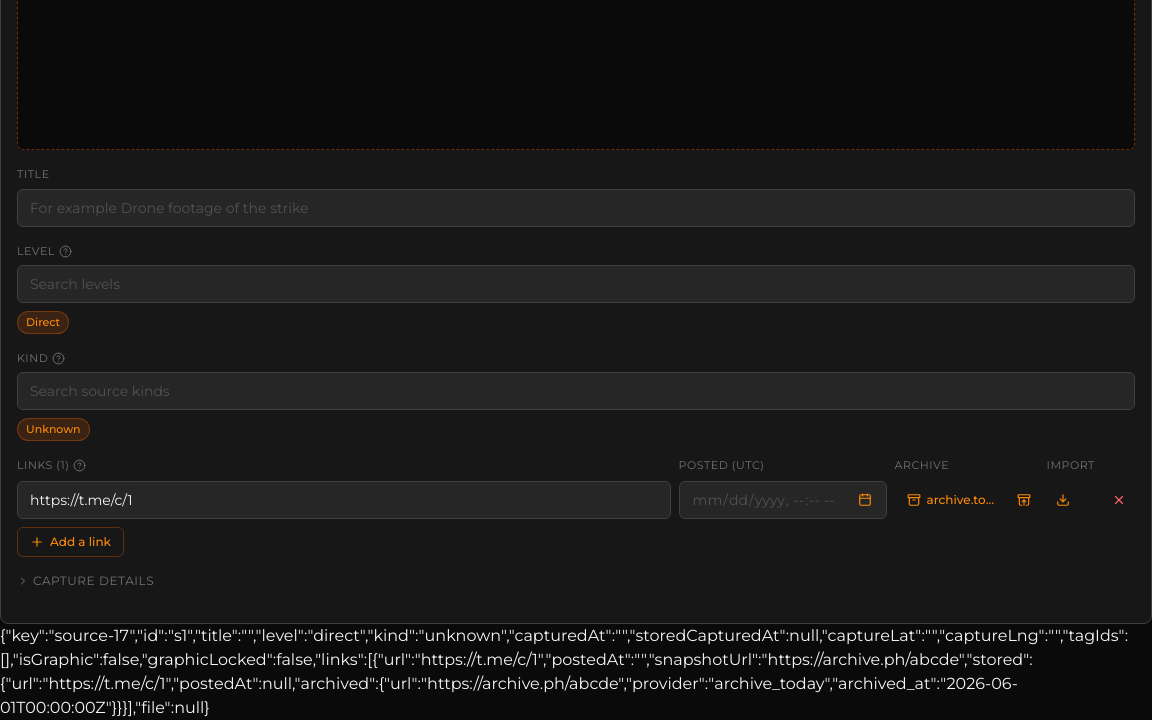
SourceEditor › opens the copy a stored link carries, and still offers to replace it
The image size is (1152, 720).
(page scrolled)
Click the button named "Replace the archived copy of source 1, t.me" at [1024, 500], box [1010,484,1039,516]
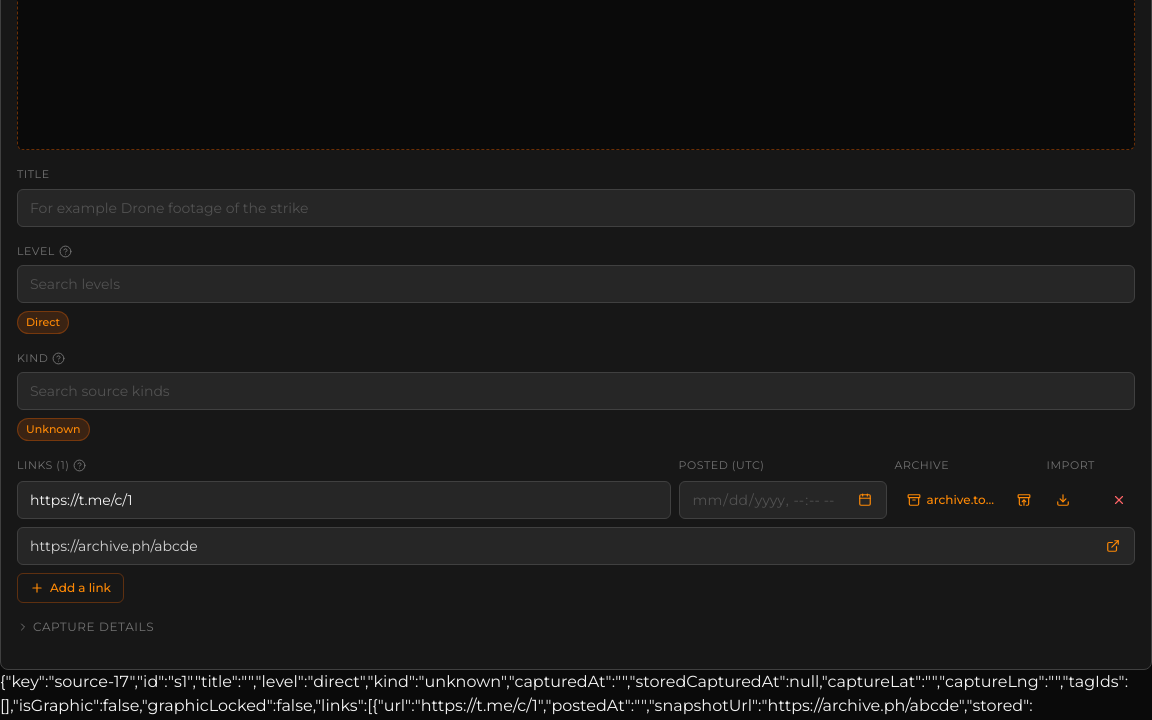
Expected: the field with placeholder "Paste a snapshot link (web.archive.org, archive.today, ghostarchive.org)" holds "https://archive.ph/abcde", [17,527,1135,565]
